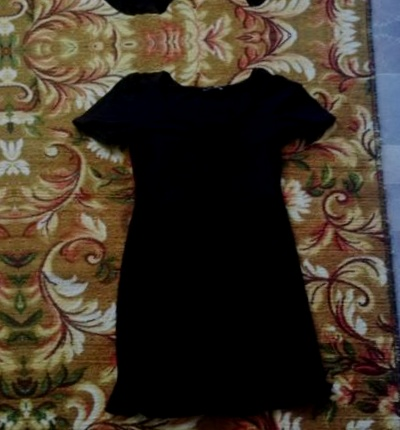Dress: (33, 47, 382, 429), (11, 0, 360, 33), (0, 69, 0, 430)
